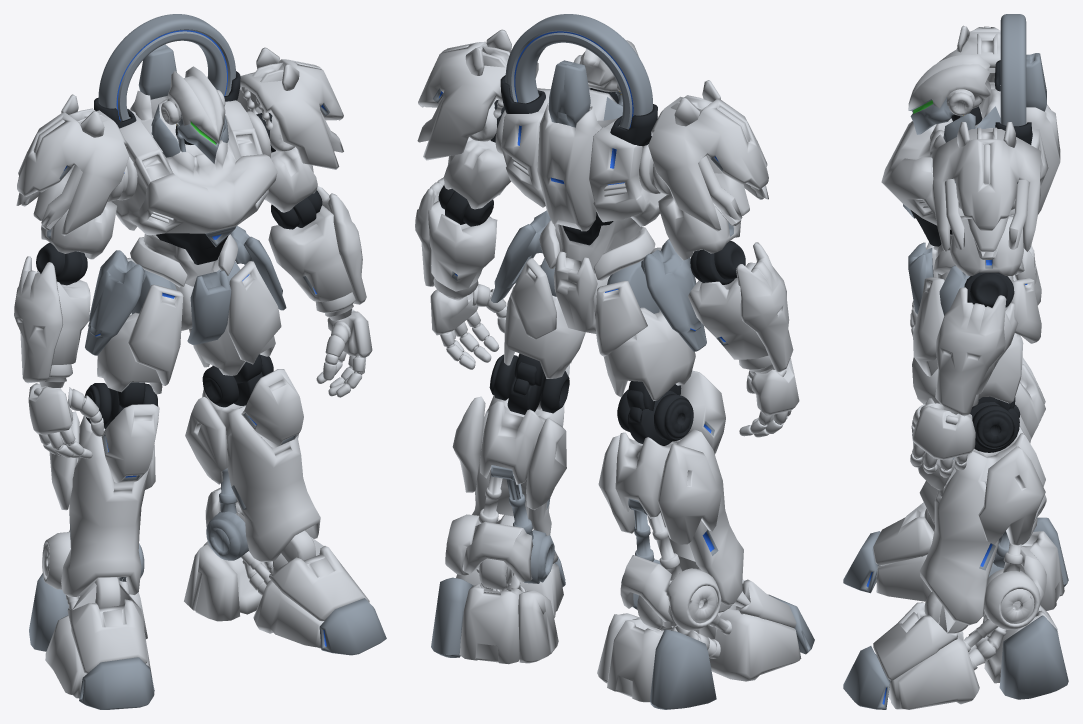
Rendered from Robot_v026_clean.fbx.
The picture shows the model from 3 angles, left to right: view 1: azimuth 30°, elevation 25°; view 2: azimuth 150°, elevation 25°; view 3: azimuth 270°, elevation 25°; orthographic projection. The views are drawn at different scales.
Parts seen in each view (by area): view 1: Robot_Body, Robot_Head; view 2: Robot_Body, Robot_Head; view 3: Robot_Body, Robot_Head.
Part boxes in pixels (x1,y1,x2,y2): Robot_Body: (14,14,386,709); Robot_Head: (161,66,225,163); Robot_Body: (415,14,814,709); Robot_Head: (573,40,638,94); Robot_Body: (843,14,1068,709); Robot_Head: (908,54,990,134).
Size of the model in its own units: 58.5 by 99.95 by 33.15.
